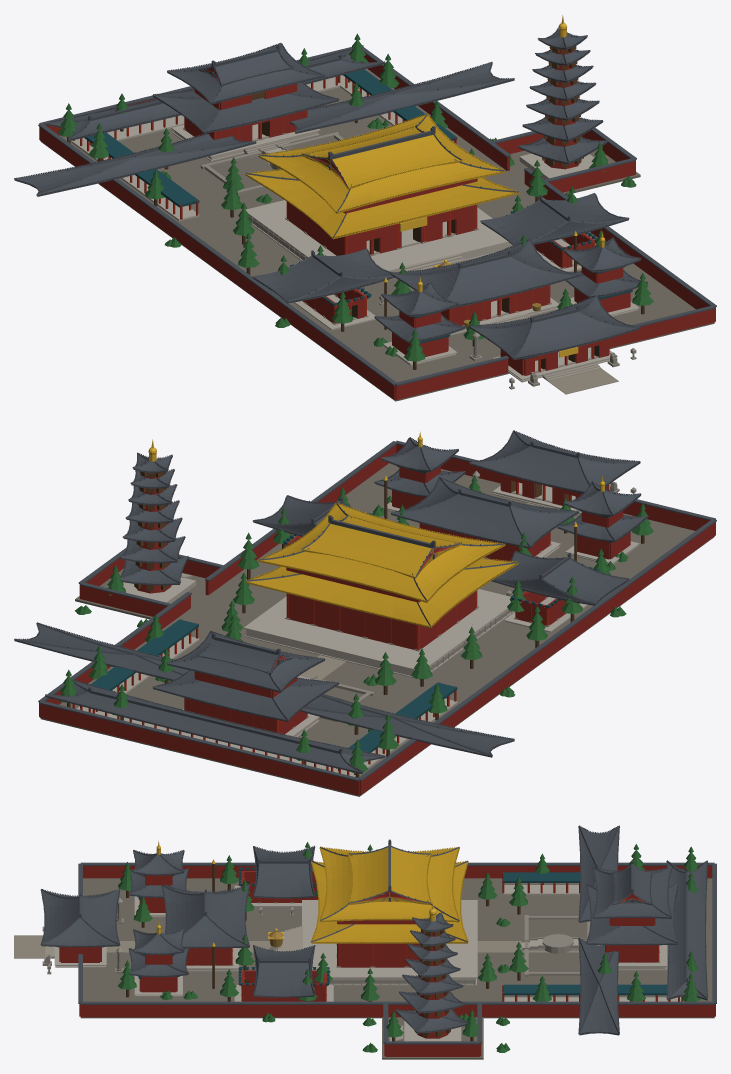
The model's file is temple.glb.
The picture shows the model from 3 angles, top to bottom: view 1: azimuth 30°, elevation 25°; view 2: azimuth 150°, elevation 25°; view 3: azimuth 270°, elevation 25°; orthographic projection. The views are drawn at different scales.
Parts seen in each view (by area): view 1: T_tile, T_wall, T_ground, T_tile_gold, T_platform, T_leaf, T_beam, T_stone, T_pillar, T_wood, T_step, T_path (+1 smaller); view 2: T_tile, T_wall, T_ground, T_tile_gold, T_platform, T_leaf, T_beam, T_pillar, T_stone, T_wood, T_trunk; view 3: T_tile, T_ground, T_wall, T_tile_gold, T_platform, T_leaf, T_stone, T_beam, T_path, T_pillar, T_wood, T_step (+1 smaller).
Part boxes in pixels (x1,y1,x2,y2): T_tile: [14, 27, 716, 385]; T_wall: [39, 49, 715, 399]; T_ground: [40, 69, 714, 401]; T_tile_gold: [245, 114, 518, 239]; T_platform: [71, 75, 639, 382]; T_leaf: [58, 33, 653, 361]; T_beam: [84, 69, 632, 369]; T_stone: [183, 128, 636, 389]; T_pillar: [73, 76, 595, 372]; T_wood: [252, 46, 598, 369]; T_step: [243, 139, 601, 381]; T_path: [258, 155, 618, 394]; T_tile: [14, 430, 716, 781]; T_wall: [39, 444, 715, 795]; T_ground: [40, 463, 714, 796]; T_tile_gold: [244, 503, 518, 628]; T_platform: [76, 482, 639, 776]; T_leaf: [60, 475, 653, 773]; T_beam: [90, 466, 612, 752]; T_pillar: [72, 482, 571, 775]; T_stone: [282, 470, 636, 729]; T_wood: [134, 471, 569, 591]; T_trunk: [67, 480, 644, 777]; T_tile: [40, 825, 716, 1044]; T_ground: [80, 878, 714, 1059]; T_wall: [59, 866, 715, 1056]; T_tile_gold: [310, 846, 468, 943]; T_platform: [54, 885, 684, 1041]; T_leaf: [118, 842, 700, 1052]; T_stone: [42, 897, 659, 1001]; T_beam: [57, 867, 666, 995]; T_path: [14, 935, 579, 958]; T_pillar: [197, 871, 683, 1001]; T_wood: [244, 880, 450, 1036]; T_step: [45, 926, 596, 1041].
Size of the model in its own units: 130 by 39.8 by 180.
